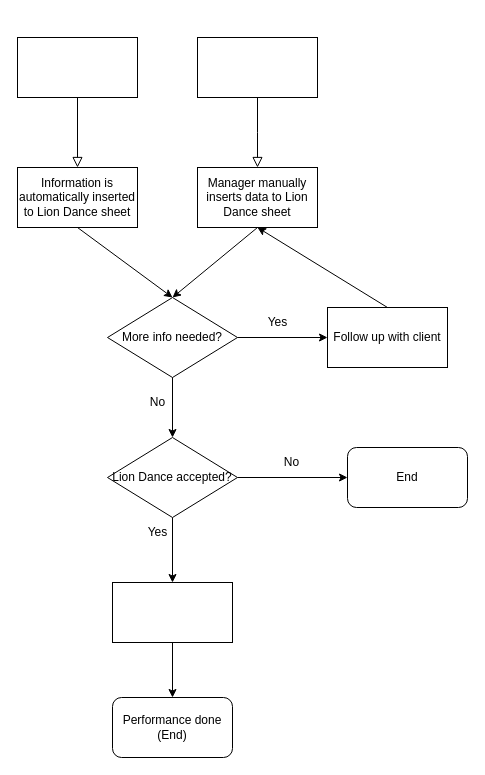
Image size: 485x775. Some labels were removed from this diagram. The shapes that lost their labels are listed below. From the top down, each one's centre as x and y in pixels, then its label:
At pixel 77 67: "Client submits Lion Dance form".
At pixel 257 67: "Client emails Harry requesting performance".
At pixel 172 612: "Logistics communicated to troupe".
